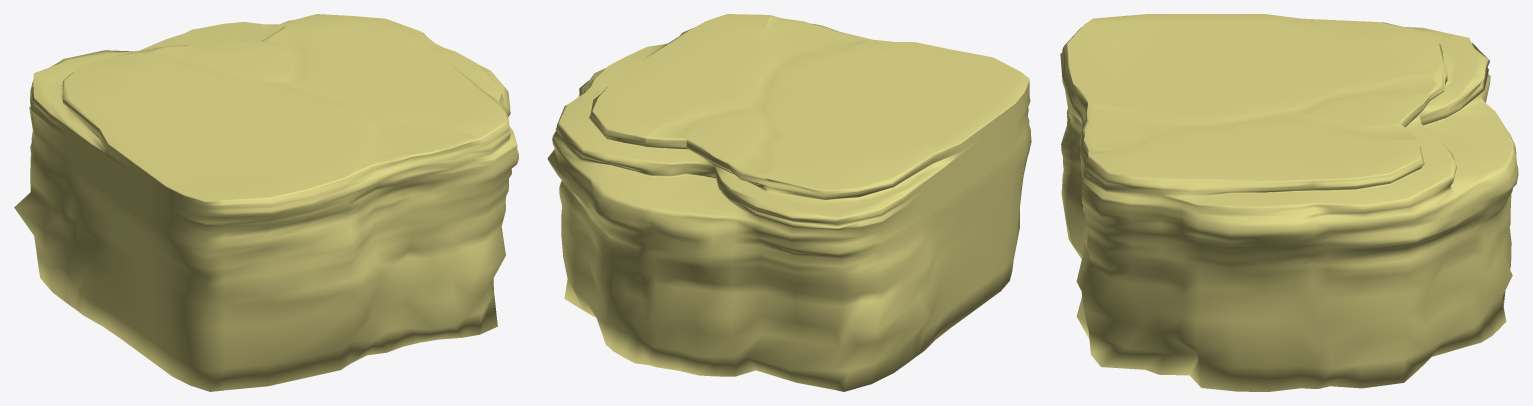
The model's file is FLOOR_v3c.fbx.
The picture shows the model from 3 angles, left to right: view 1: azimuth 30°, elevation 25°; view 2: azimuth 150°, elevation 25°; view 3: azimuth 270°, elevation 25°; orthographic projection. The views are drawn at different scales.
Parts seen in each view (by area): view 1: env_base_s5_softened; view 2: env_base_s5_softened; view 3: env_base_s5_softened.
Part boxes in pixels (x1,y1,x2,y2): env_base_s5_softened: (14, 14, 518, 391); env_base_s5_softened: (547, 14, 1031, 391); env_base_s5_softened: (1060, 14, 1518, 391).
Bounding box in the file's own units: 224 × 112 × 224.
